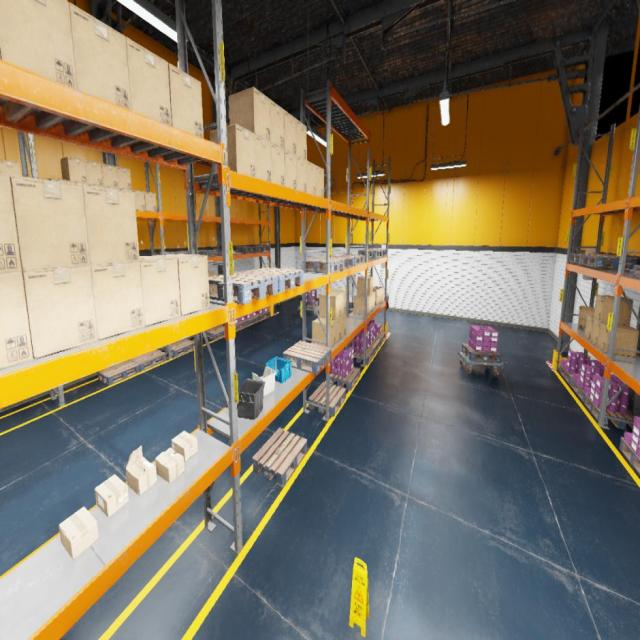box: (10, 175, 90, 270), (23, 265, 98, 359), (0, 0, 77, 89), (70, 2, 132, 110), (82, 185, 140, 265), (91, 262, 145, 341), (126, 37, 172, 125), (153, 253, 210, 316), (0, 270, 33, 369), (140, 256, 180, 327), (168, 63, 204, 138), (210, 124, 256, 177), (229, 86, 271, 142), (59, 506, 99, 560), (0, 174, 22, 272), (126, 445, 157, 496), (95, 474, 128, 517), (598, 322, 638, 357), (594, 294, 632, 326), (155, 447, 185, 483), (591, 318, 628, 346), (254, 135, 272, 182), (172, 431, 198, 461), (270, 100, 285, 149), (312, 318, 336, 347), (61, 157, 87, 183), (319, 291, 341, 320), (271, 142, 285, 186), (325, 289, 346, 316), (284, 110, 296, 154), (284, 150, 297, 190), (86, 160, 103, 185), (297, 118, 307, 160), (577, 306, 594, 330), (101, 164, 118, 188), (0, 160, 22, 177), (353, 294, 370, 315), (116, 167, 132, 189), (297, 155, 306, 193), (357, 276, 373, 296), (132, 189, 146, 211), (307, 160, 316, 194), (144, 191, 158, 212), (358, 294, 372, 313), (316, 165, 324, 198), (584, 315, 594, 341), (373, 288, 383, 304), (336, 317, 341, 343), (341, 314, 346, 338), (208, 271, 215, 286), (47, 178, 70, 182), (71, 182, 88, 185), (104, 186, 119, 189), (88, 184, 103, 187), (118, 188, 132, 191), (373, 292, 375, 310), (213, 286, 216, 293), (0, 53, 1, 59), (216, 284, 216, 293)
pallets: (253, 428, 307, 488), (208, 272, 278, 304), (584, 394, 634, 429), (283, 341, 332, 374), (240, 268, 304, 292), (309, 381, 347, 417), (98, 360, 140, 386), (130, 349, 167, 371), (581, 255, 638, 269), (619, 437, 640, 474), (330, 367, 360, 391), (462, 344, 501, 362), (302, 258, 344, 274), (164, 338, 194, 357), (568, 254, 616, 264), (319, 256, 354, 268), (570, 377, 585, 402), (354, 347, 374, 364), (205, 325, 225, 340), (338, 254, 363, 265), (224, 320, 248, 331), (560, 364, 572, 384), (357, 250, 382, 258), (368, 338, 380, 354), (198, 249, 222, 257), (374, 332, 386, 345), (244, 316, 259, 326), (368, 249, 388, 256), (256, 310, 270, 320), (235, 246, 258, 252), (154, 251, 186, 255), (176, 251, 205, 255), (632, 265, 640, 279), (248, 246, 268, 251), (306, 300, 318, 308)
